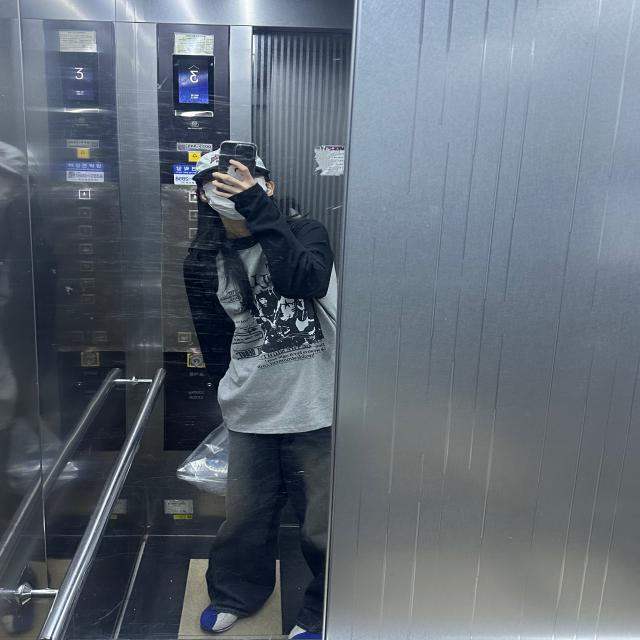denimpants: (208, 427, 334, 639)
longsleeve: (187, 196, 337, 431)
